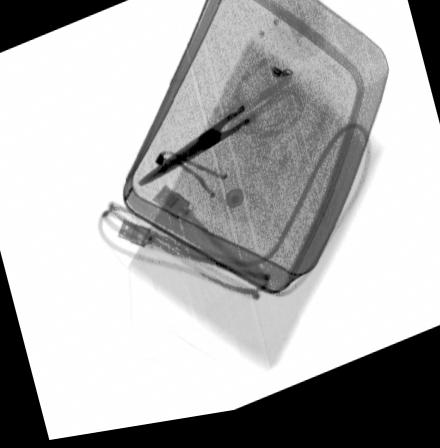Scissors: (137, 65, 304, 191)
